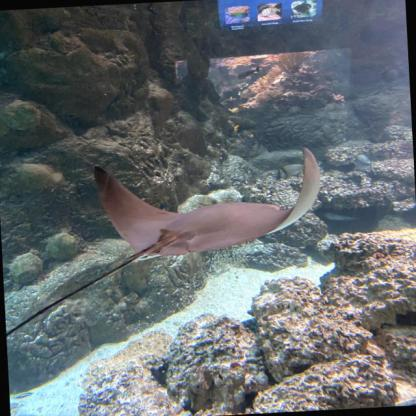stingray: (93, 148, 324, 260)
